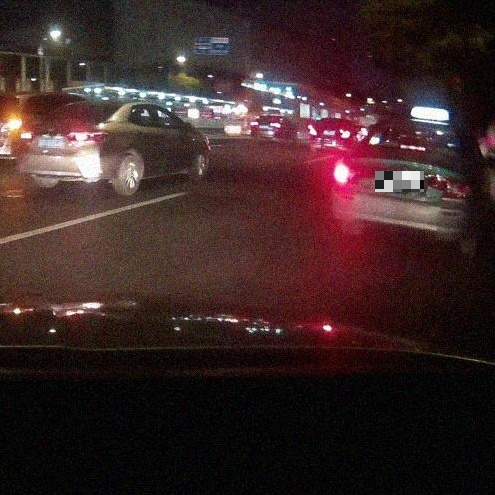L_light: (333, 163, 373, 184), (17, 130, 38, 140)
R_light: (429, 175, 472, 200), (66, 130, 106, 144)
T_light: (400, 145, 426, 152), (77, 104, 90, 107)
night-left: (332, 119, 475, 259)
night-no: (15, 100, 122, 196)
plate_1: (375, 171, 424, 192)
